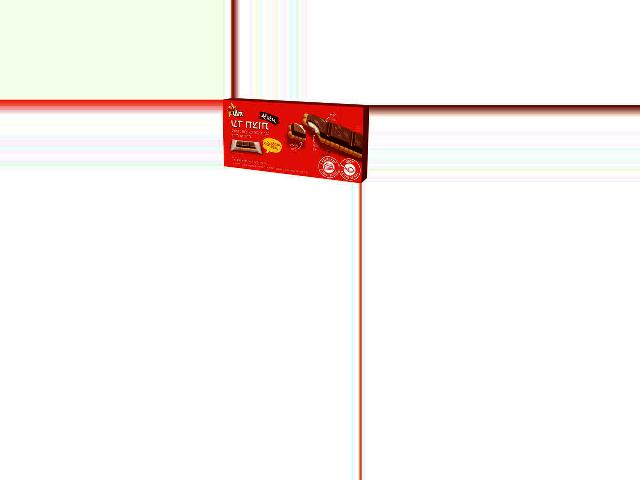chocolate: (221, 104, 367, 174)
